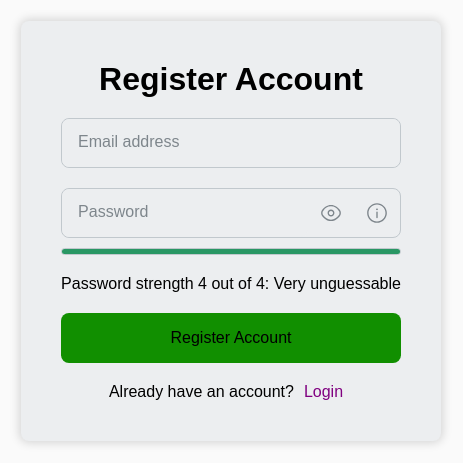
Test: Functionality › Form; Input validation; error message on invalid email pattern
In the password field with test id "password-strength-input": (185, 213) [62, 189, 308, 237], type "s!i0bF$qeVx"
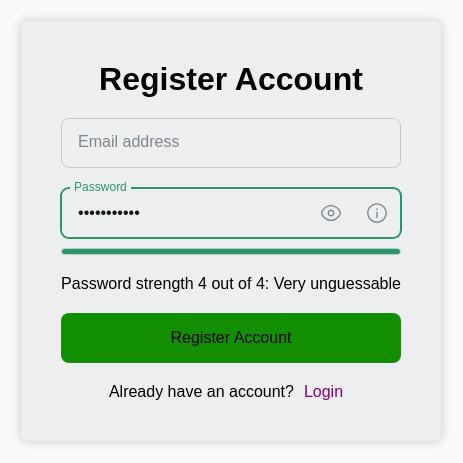
In the field labelled "Email address": (231, 143) [62, 119, 400, 167], type "invalidAddress"
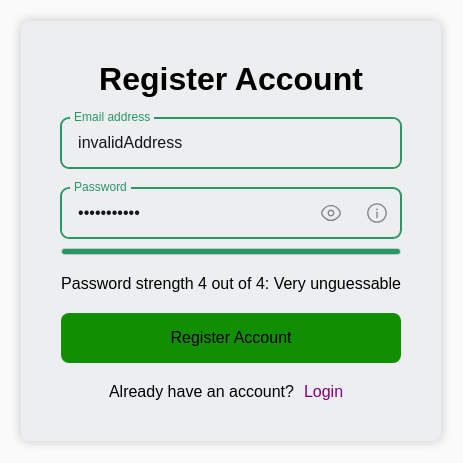
Click the button "Register Account": (231, 338) [61, 313, 401, 363]
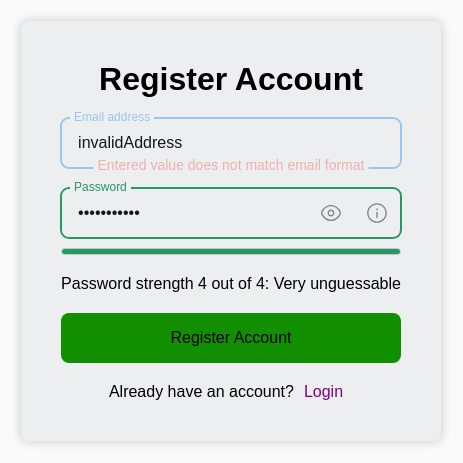
Check: the message reads "Entered value does not match email format", box [98, 157, 364, 173]
